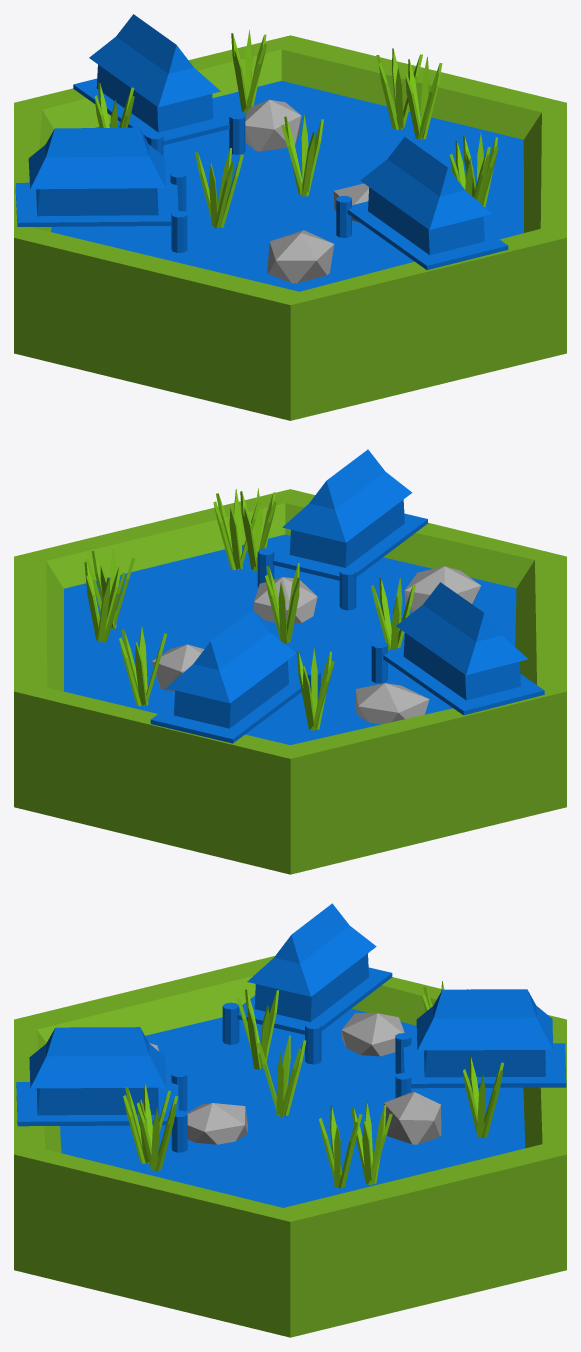
The model's file is Casas_Lago_Cerrado_3.fbx.
3 renders of one model, top to bottom at view 1: azimuth 30°, elevation 25°; view 2: azimuth 150°, elevation 25°; view 3: azimuth 270°, elevation 25°, orthographic.
Parts seen in each view (by area): view 1: Casas_Lago_Cerrado_3; view 2: Casas_Lago_Cerrado_3; view 3: Casas_Lago_Cerrado_3.
Part boxes in pixels (x1,y1,x2,y2): Casas_Lago_Cerrado_3: (14, 14, 566, 420); Casas_Lago_Cerrado_3: (14, 449, 566, 874); Casas_Lago_Cerrado_3: (14, 903, 566, 1337).
Size of the model in its own units: 200 by 67.29 by 173.
